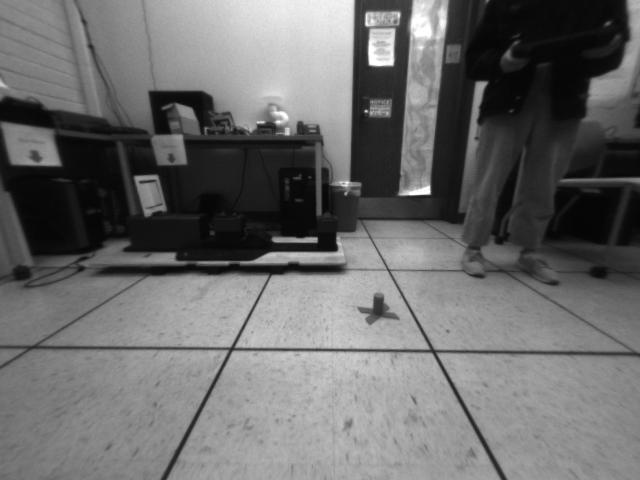x: (356, 291, 399, 325)
